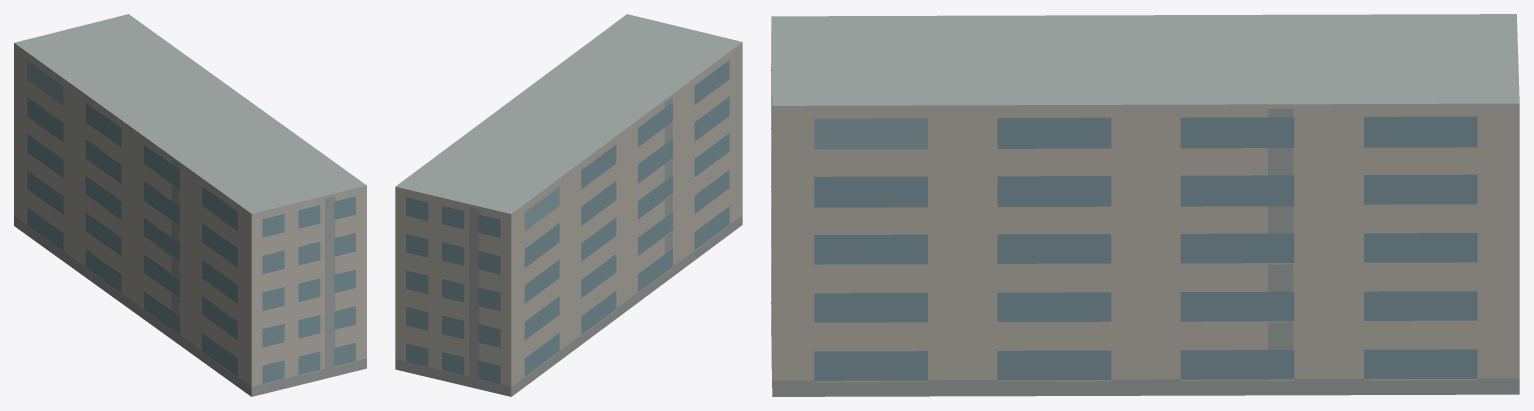
The model's file is survey-upis-32631191.glb.
The picture shows the model from 3 angles, left to right: view 1: azimuth 30°, elevation 25°; view 2: azimuth 150°, elevation 25°; view 3: azimuth 270°, elevation 25°; orthographic projection. The views are drawn at different scales.
Parts seen in each view (by area): view 1: survey-upis-32631191.tmp; view 2: survey-upis-32631191.tmp; view 3: survey-upis-32631191.tmp.
Part boxes in pixels (x1,y1,x2,y2): survey-upis-32631191.tmp: (14, 14, 366, 396); survey-upis-32631191.tmp: (395, 14, 742, 396); survey-upis-32631191.tmp: (771, 14, 1519, 396).
Size of the model in its own units: 10.34 by 15.25 by 35.56.
